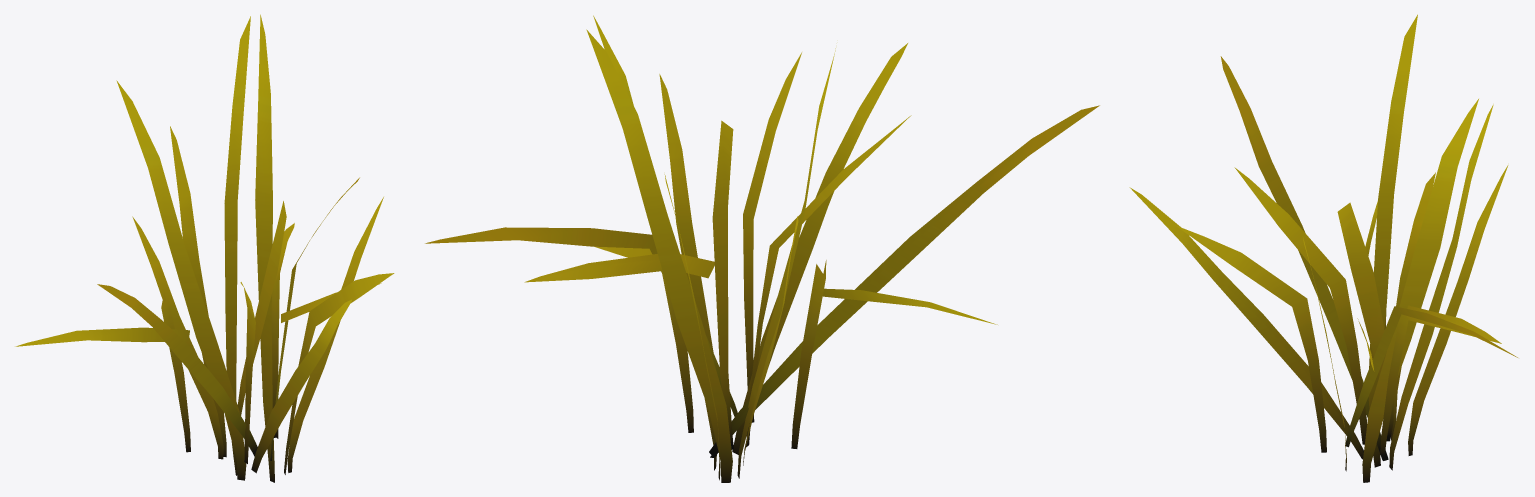
Rendered from grass-wispy-short-lo.glb.
3 renders of one model, left to right at view 1: azimuth 30°, elevation 25°; view 2: azimuth 150°, elevation 25°; view 3: azimuth 270°, elevation 25°, orthographic. The views are drawn at different scales.
Parts seen in each view (by area): view 1: Grass_Wispy_Short; view 2: Grass_Wispy_Short; view 3: Grass_Wispy_Short.
Boxes of the visible parts, left/top/right/bottom form: Grass_Wispy_Short: left=15, top=14, right=394, bottom=482; Grass_Wispy_Short: left=425, top=15, right=1099, bottom=482; Grass_Wispy_Short: left=1129, top=14, right=1517, bottom=482.
Bounding box in the file's own units: 1.56 × 1.48 × 1.3.
Materials: 1 (1 with a texture image).
